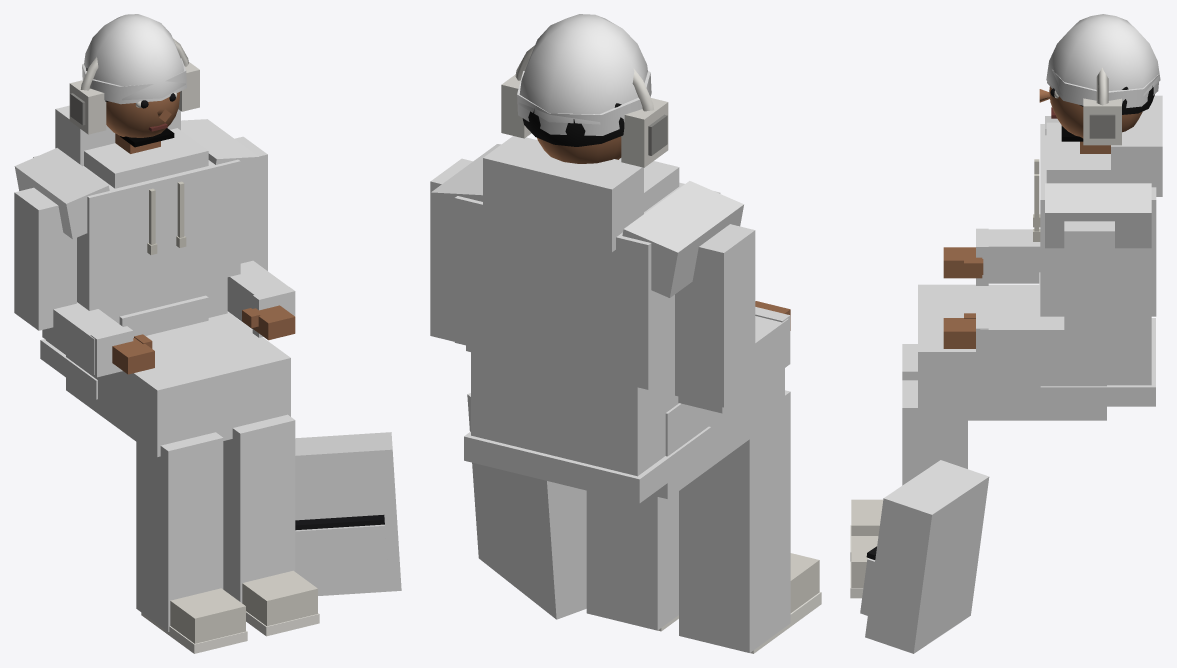
Rendered from NPC_hoodie_seated.fbx.
3 renders of one model, left to right at view 1: azimuth 30°, elevation 25°; view 2: azimuth 150°, elevation 25°; view 3: azimuth 270°, elevation 25°, orthographic. The views are drawn at different scales.
Visible parts, largest first — view 1: Body_Cloth_222a3d.001, Body_Cloth_7a8ba1.001, Prop_Backpack_Cloth_2b2b2e, Head_Cloth_34343a.001, Body_Mat_dedbd2.001, Body_Cloth_1a2030.001, Body_Skin.005, Head_Mat_dedcd6.001, Head_Skin.005, Body_Mat_f1efe8.001, Body_Mat_d6d3c8.001, Prop_Backpack; view 2: Body_Cloth_222a3d.001, Body_Cloth_7a8ba1.001, Prop_Backpack_Cloth_2b2b2e, Head_Cloth_34343a.001, Body_Cloth_1a2030.001, Head_Mat_dedcd6.001, Head_Hair.005, Head_Skin.005, Body_Mat_dedbd2.001, Body_Mat_f1efe8.001, Head_Mat_8e8d8a.001; view 3: Body_Cloth_222a3d.001, Body_Cloth_7a8ba1.001, Prop_Backpack_Cloth_2b2b2e, Head_Cloth_34343a.001, Body_Cloth_1a2030.001, Body_Skin.005, Body_Mat_dedbd2.001, Head_Mat_dedcd6.001, Head_Skin.005, Head_Mat_8e8d8a.001, Body_Mat_d6d3c8.001.
Part boxes in pixels (x1=…): Body_Cloth_222a3d.001: x1=14, y1=105, x2=288, y2=374; Body_Cloth_7a8ba1.001: x1=66, y1=312, x2=295, y2=631; Prop_Backpack_Cloth_2b2b2e: x1=295, y1=432, x2=401, y2=595; Head_Cloth_34343a.001: x1=82, y1=14, x2=186, y2=104; Body_Mat_dedbd2.001: x1=170, y1=570, x2=317, y2=643; Body_Cloth_1a2030.001: x1=40, y1=286, x2=295, y2=399; Body_Skin.005: x1=112, y1=133, x2=295, y2=374; Head_Mat_dedcd6.001: x1=69, y1=38, x2=199, y2=134; Head_Skin.005: x1=106, y1=92, x2=180, y2=137; Body_Mat_f1efe8.001: x1=141, y1=611, x2=319, y2=653; Body_Mat_d6d3c8.001: x1=147, y1=181, x2=186, y2=254; Prop_Backpack: x1=295, y1=515, x2=384, y2=530; Body_Cloth_222a3d.001: x1=430, y1=136, x2=788, y2=476; Body_Cloth_7a8ba1.001: x1=586, y1=368, x2=790, y2=652; Prop_Backpack_Cloth_2b2b2e: x1=467, y1=393, x2=586, y2=619; Head_Cloth_34343a.001: x1=517, y1=14, x2=651, y2=135; Body_Cloth_1a2030.001: x1=464, y1=307, x2=790, y2=503; Head_Mat_dedcd6.001: x1=501, y1=45, x2=668, y2=167; Head_Hair.005: x1=522, y1=103, x2=624, y2=146; Head_Skin.005: x1=537, y1=136, x2=621, y2=163; Body_Mat_dedbd2.001: x1=790, y1=553, x2=819, y2=612; Body_Mat_f1efe8.001: x1=658, y1=592, x2=821, y2=653; Head_Mat_8e8d8a.001: x1=648, y1=114, x2=667, y2=155; Body_Cloth_222a3d.001: x1=980, y1=95, x2=1162, y2=385; Body_Cloth_7a8ba1.001: x1=902, y1=284, x2=1106, y2=485; Prop_Backpack_Cloth_2b2b2e: x1=860, y1=460, x2=989, y2=653; Head_Cloth_34343a.001: x1=1046, y1=14, x2=1160, y2=107; Body_Cloth_1a2030.001: x1=976, y1=228, x2=1155, y2=406; Body_Skin.005: x1=943, y1=141, x2=1110, y2=348; Body_Mat_dedbd2.001: x1=851, y1=499, x2=883, y2=587; Head_Mat_dedcd6.001: x1=1083, y1=67, x2=1121, y2=145; Head_Skin.005: x1=1039, y1=86, x2=1142, y2=138; Head_Mat_8e8d8a.001: x1=1089, y1=114, x2=1115, y2=138; Body_Mat_d6d3c8.001: x1=1033, y1=159, x2=1040, y2=241.
Bounding box in the file's own units: 0.8022 × 1.42 × 0.7275.
